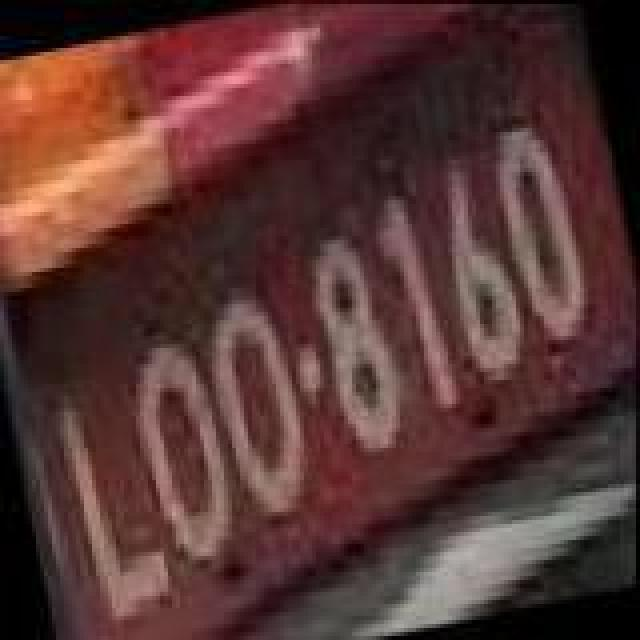1: (366, 184, 462, 420)
6: (422, 146, 534, 386)
8: (298, 226, 418, 466)
L: (52, 382, 184, 626)
O: (116, 334, 248, 582), (198, 284, 326, 528), (482, 116, 602, 356)
